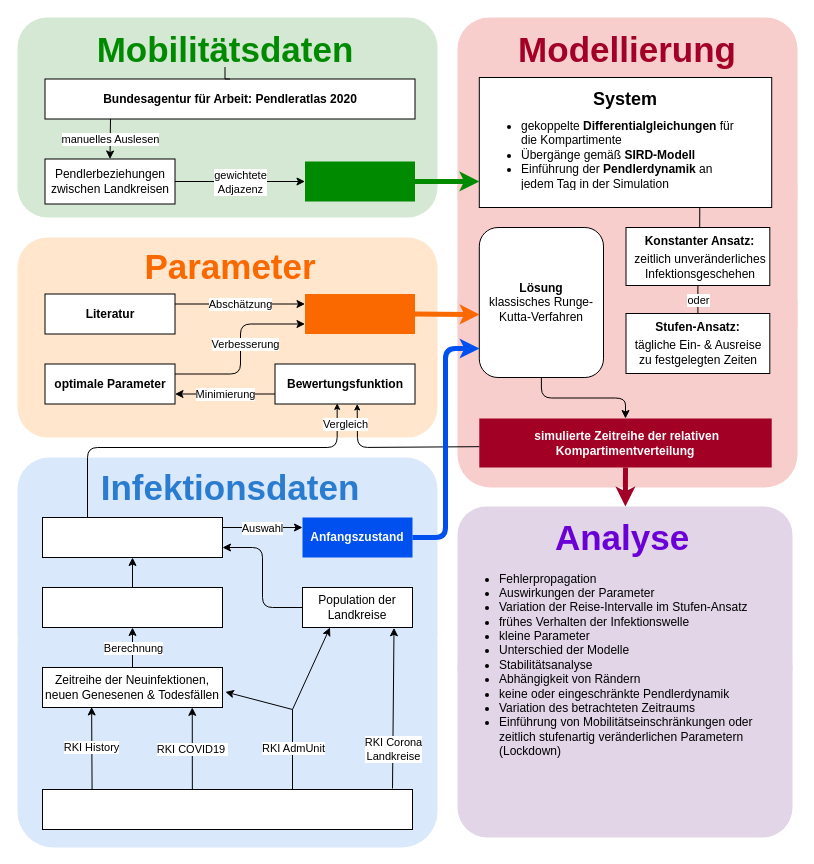
Image size: 814x864. Some labels were removed from this diagram. The shapes that lost their labels are listed below. From the top down, each one's box as (x1, y1, x2, y2) in pixels, then its label:
(304, 161, 414, 201): Netzwerkmodell
(304, 294, 414, 334): Modellparameter
(42, 516, 222, 558): Zeitreihe der relativen Kompartimentverteilung
(42, 586, 222, 628): Zeitreihe der absoluten Kompartimentverteilung
(42, 788, 412, 830): ESRI/RKI: COVID-19-Datenhub
